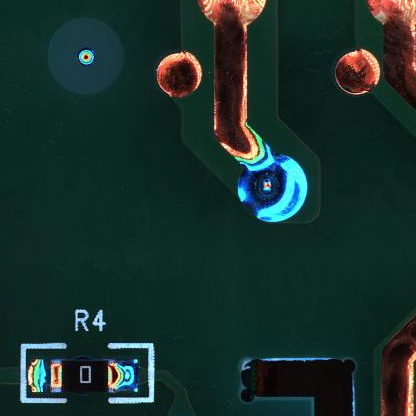spot: (237, 154, 309, 223)
